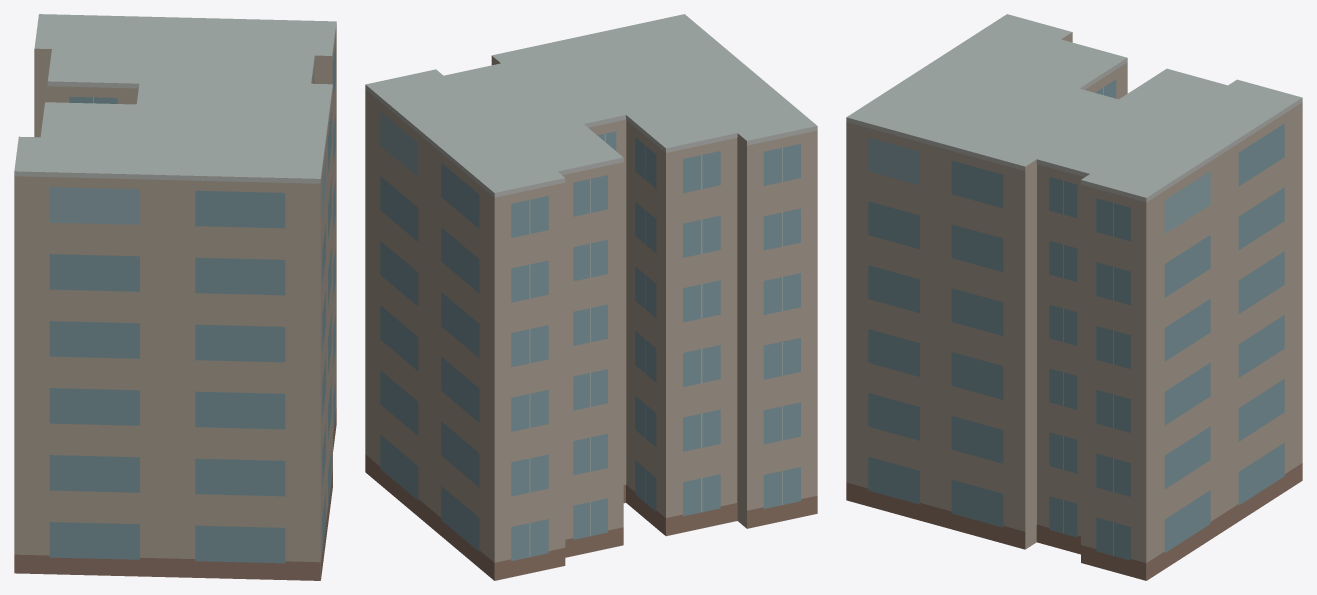
Rendered from survey-upis-32773033.glb.
3 views of the same model, side by side, from view 1: azimuth 30°, elevation 25°; view 2: azimuth 150°, elevation 25°; view 3: azimuth 270°, elevation 25° (orthographic). The views are drawn at different scales.
Visible parts, largest first — view 1: survey-upis-32773033.tmp; view 2: survey-upis-32773033.tmp; view 3: survey-upis-32773033.tmp.
Boxes of the visible parts, bbox=[...] form: survey-upis-32773033.tmp: bbox=[14, 14, 336, 580]; survey-upis-32773033.tmp: bbox=[365, 14, 817, 580]; survey-upis-32773033.tmp: bbox=[846, 14, 1302, 580].
Bounding box in the file's own units: 20.91 × 20.3 × 21.93.
